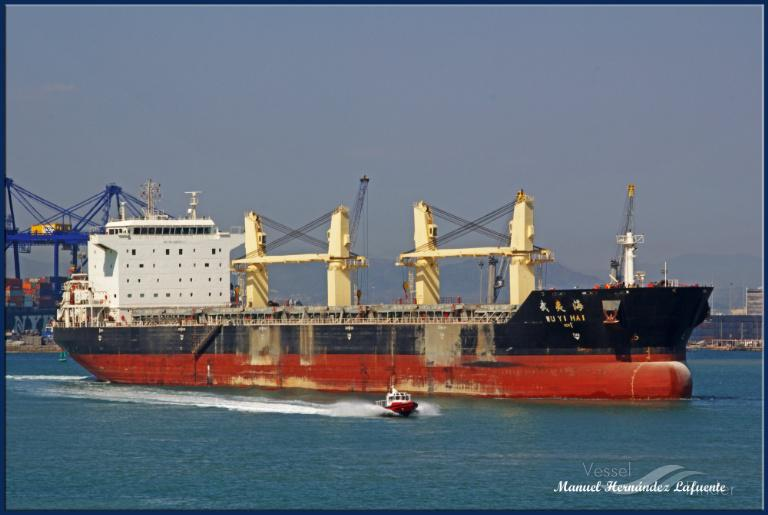OCR: (538, 306, 588, 334)
